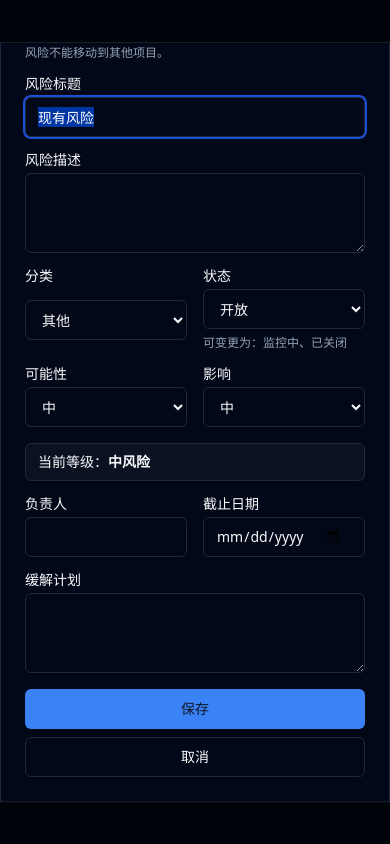
Test case: RiskForm › offers only legal target statuses when editing and keeps the dialog open on save errors
(page scrolled)
What coordinates should you click on to do the following:
click the button "保存"
I would click on:
 (195, 709)
Its box is [25, 689, 365, 729].
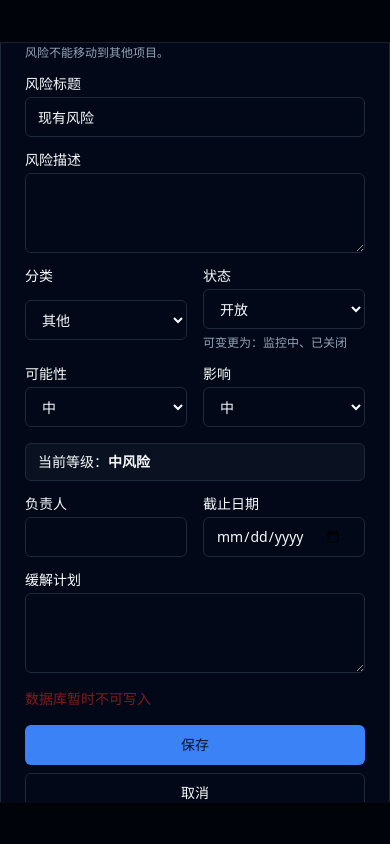
Result: the text "数据库暂时不可写入" is shown at [25, 689, 151, 708]
